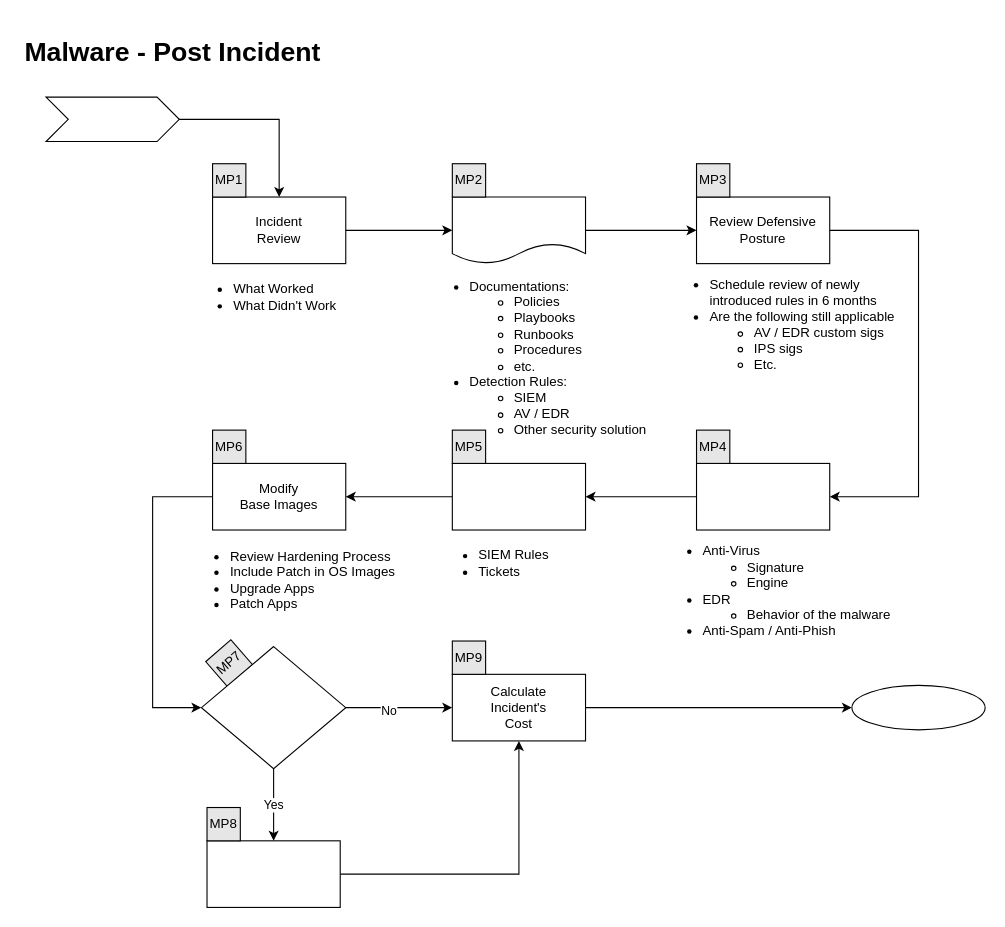
Some shapes in this 1005 by 927 pixel diagram are drawn without their labels. The shapes that lost their labels are listed below. From the top down, each one's centre as x and y in pixels, then its label:
[112,119]: Previous (Detect)
[518,230]: Update Policies & Procedures
[518,496]: Build New Detections
[762,496]: Update / Upgrade Defences
[273,707]: Incident Cause by Human
[918,707]: Stop
[273,873]: User Awareness Training
